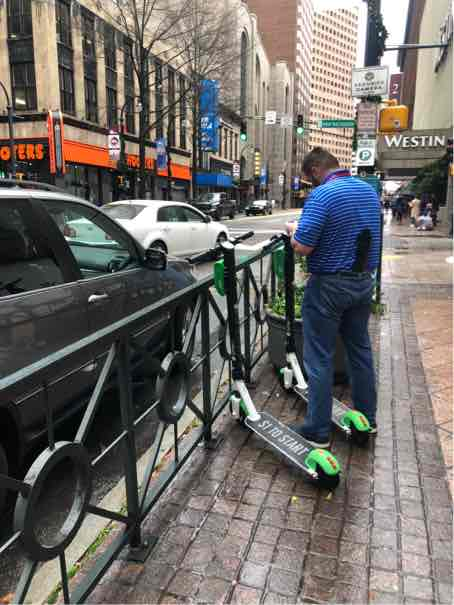scooter: (168, 219, 346, 503)
